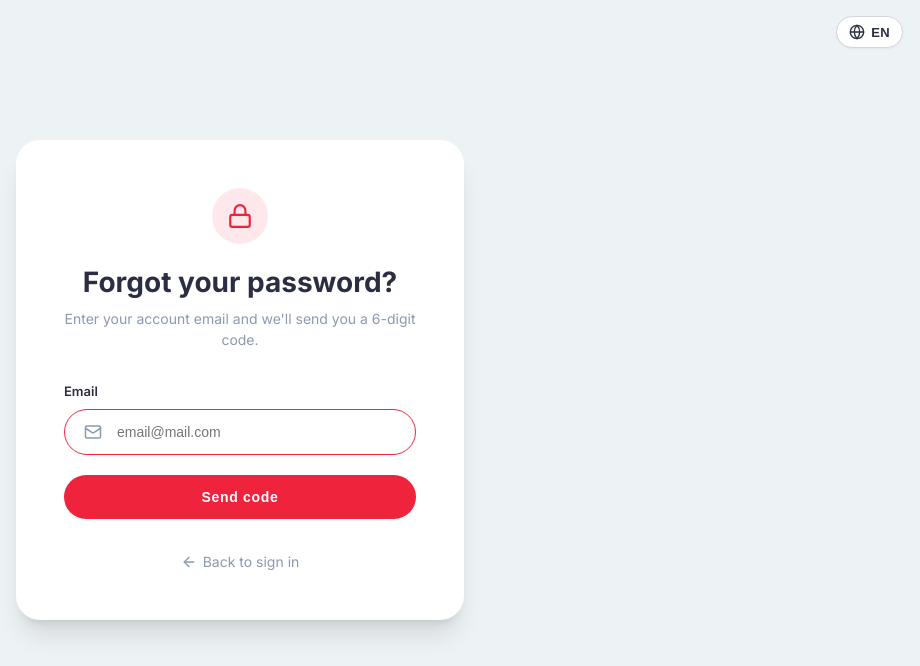
Test: ForgotPasswordPage › validates the email before requesting a code
Type "not-an-email" into the field labelled "Email" at {"x": 240, "y": 432}, box x1=64 y1=409 x2=416 y2=455
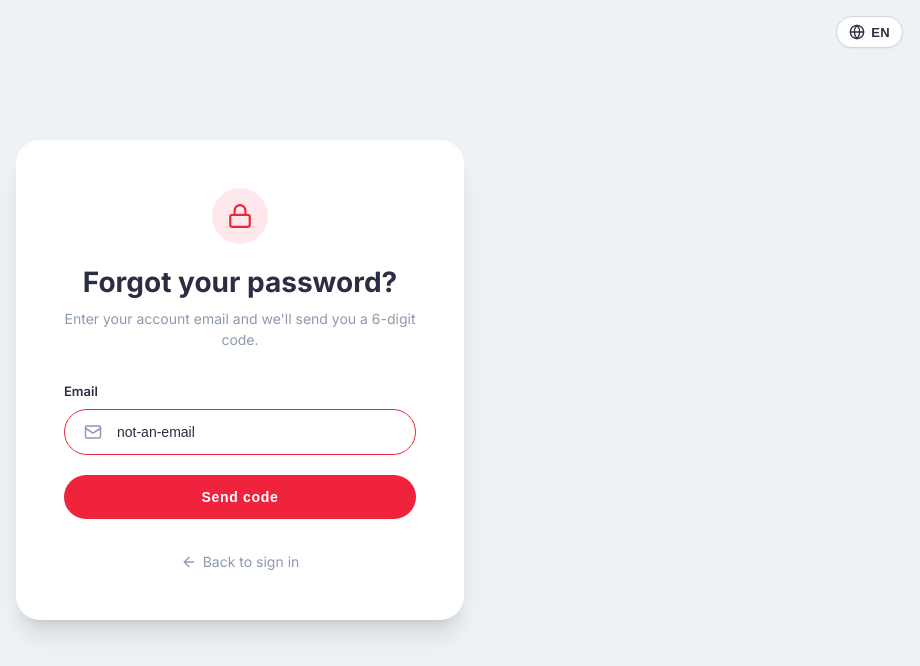
Click the button "Send code" at {"x": 240, "y": 497}, box x1=64 y1=475 x2=416 y2=519
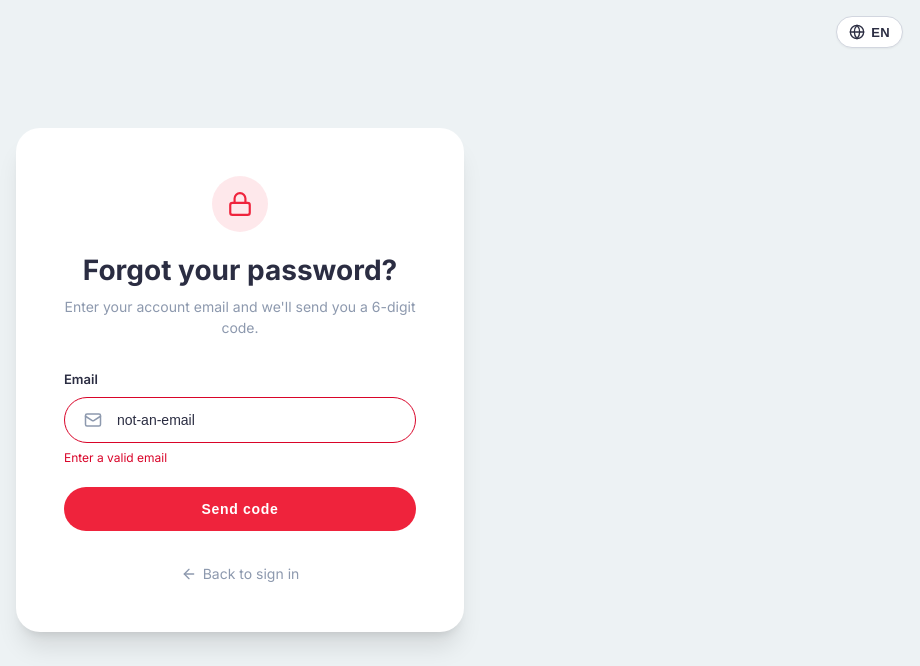
Now the text "Enter a valid email" is shown, box x1=64 y1=450 x2=167 y2=465
